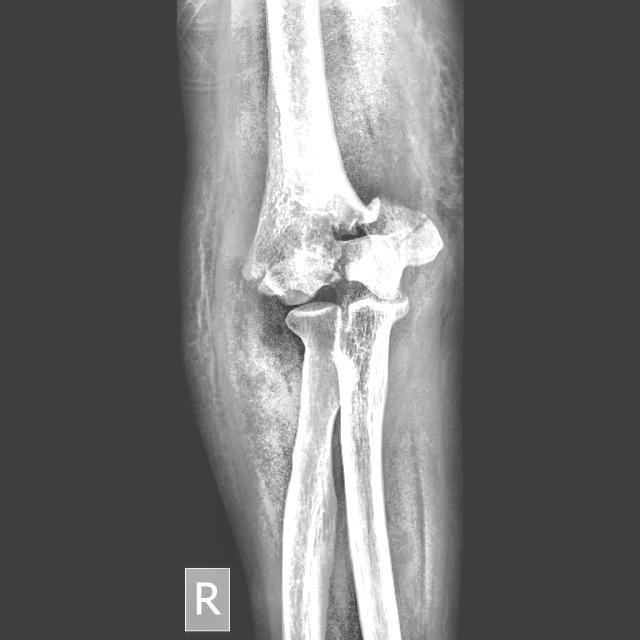fracture: (244, 191, 378, 289), (400, 216, 428, 244)
